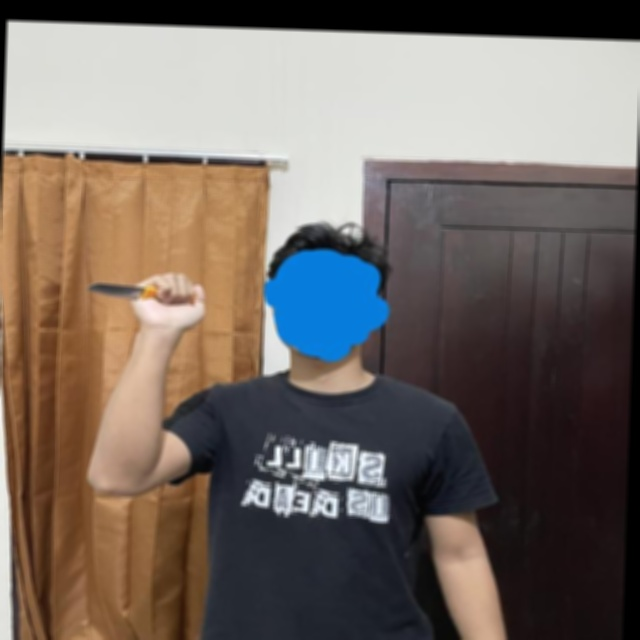Sharp-Object: (85, 281, 198, 303)
